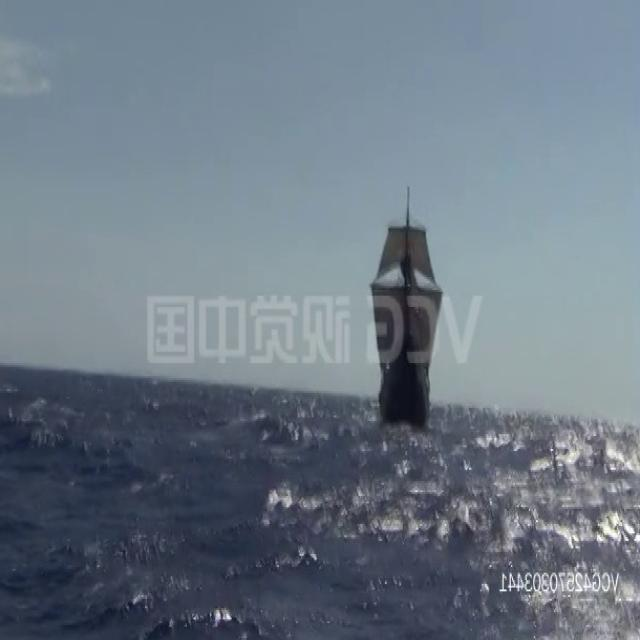sailboat: (371, 173, 444, 422)
